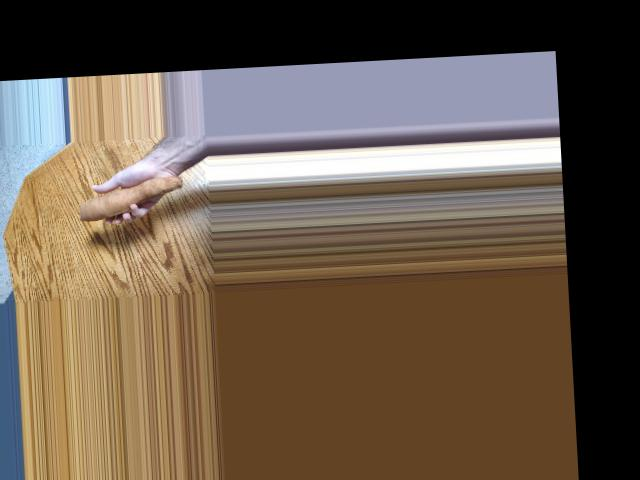sweet_potato: (76, 174, 195, 225)
